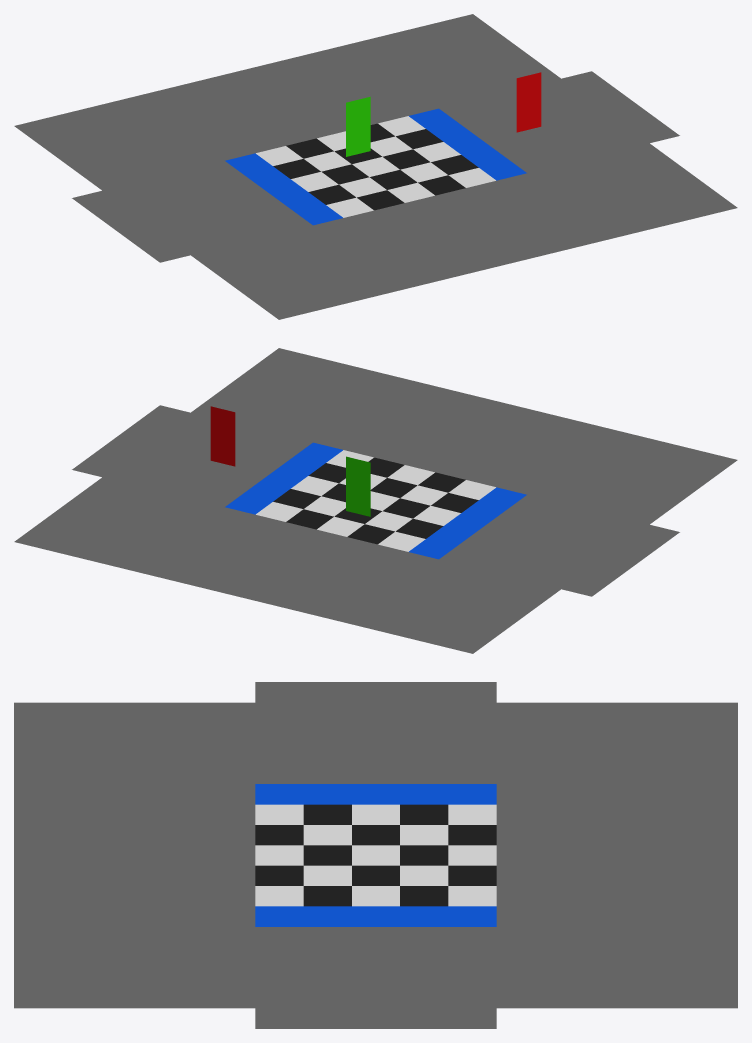
3 views of the same model, one above another, from view 1: azimuth 30°, elevation 25°; view 2: azimuth 150°, elevation 25°; view 3: azimuth 270°, elevation 25° (orthographic). The views are drawn at different scales.
Parts seen in each view (by area): view 1: Plane.003, Plane.002, Plane, Plane.001, pivot, enemy, safe_Plane.026, safe_Plane.028, safe_Plane.031, safe_Plane.032, tactica_Plane.008, tactica_Plane.013 (+26 smaller); view 2: Plane.002, Plane.003, Plane, Plane.001, pivot, enemy, safe_Plane.026, safe_Plane.027, safe_Plane.031, safe_Plane.033, tactica_Plane.011, safe_Plane.029 (+22 smaller); view 3: Plane.002, Plane.003, Plane, Plane.001, safe_Plane.025, safe_Plane.027, safe_Plane.028, safe_Plane.029, safe_Plane.030, safe_Plane.032, safe_Plane.033, safe_Plane.034 (+27 smaller).
Part boxes in pixels (x1,y1,x2,y2): Plane.003: [191, 143, 737, 319]; Plane.002: [14, 14, 560, 190]; Plane: [72, 161, 312, 262]; Plane.001: [439, 71, 679, 172]; pivot: [516, 72, 541, 132]; enemy: [346, 96, 370, 156]; safe_Plane.026: [260, 179, 307, 199]; safe_Plane.028: [243, 166, 290, 186]; safe_Plane.031: [444, 134, 491, 154]; safe_Plane.032: [461, 147, 508, 167]; tactica_Plane.008: [400, 162, 447, 182]; tactica_Plane.013: [304, 151, 351, 171]; Plane.002: [14, 477, 560, 653]; Plane.003: [191, 348, 737, 524]; Plane: [439, 495, 679, 596]; Plane.001: [72, 405, 312, 506]; pivot: [210, 406, 235, 466]; enemy: [346, 456, 370, 516]; safe_Plane.026: [444, 513, 491, 533]; safe_Plane.027: [461, 500, 508, 520]; safe_Plane.031: [260, 468, 307, 488]; safe_Plane.033: [243, 481, 290, 501]; tactica_Plane.011: [400, 485, 447, 505]; safe_Plane.029: [409, 539, 456, 559]; Plane.002: [496, 702, 737, 1008]; Plane.003: [14, 702, 255, 1008]; Plane: [255, 682, 496, 783]; Plane.001: [255, 927, 496, 1028]; safe_Plane.025: [255, 784, 303, 804]; safe_Plane.027: [303, 784, 351, 804]; safe_Plane.028: [400, 784, 448, 804]; safe_Plane.029: [448, 784, 496, 804]; safe_Plane.030: [255, 906, 303, 926]; safe_Plane.032: [303, 906, 351, 926]; safe_Plane.033: [400, 906, 448, 926]; safe_Plane.034: [448, 906, 496, 926].
Bounding box in the file's own units: 17 × 1.7 × 15.
